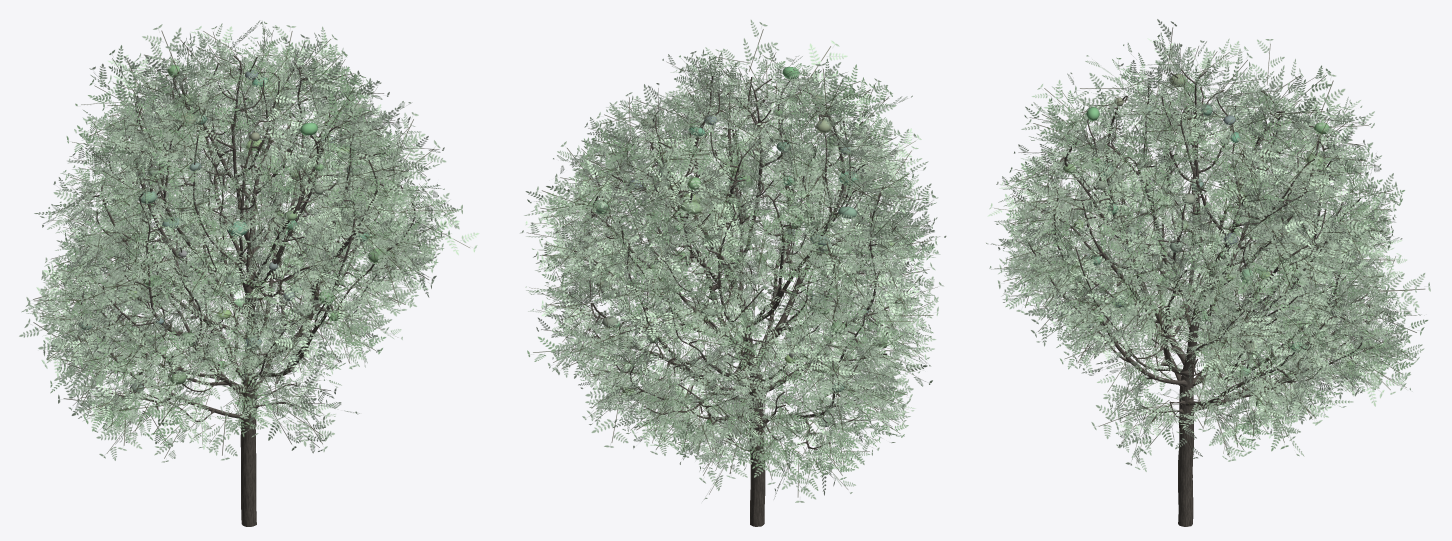
The model's file is tree_59_broadleaf.glb.
3 views of the same model, side by side, from view 1: azimuth 30°, elevation 25°; view 2: azimuth 150°, elevation 25°; view 3: azimuth 270°, elevation 25° (orthographic). The views are drawn at different scales.
Visible parts, largest first — view 1: tree_59_broadleaf.leaves, tree_59_broadleaf.trunk_branches, tree_59_broadleaf.foliage_volume; view 2: tree_59_broadleaf.leaves, tree_59_broadleaf.trunk_branches, tree_59_broadleaf.foliage_volume; view 3: tree_59_broadleaf.leaves, tree_59_broadleaf.trunk_branches, tree_59_broadleaf.foliage_volume.
Boxes of the visible parts, x1,y1,x2,y2 form: tree_59_broadleaf.leaves: (19,20,478,462); tree_59_broadleaf.trunk_branches: (77,55,415,526); tree_59_broadleaf.foliage_volume: (79,64,383,392); tree_59_broadleaf.leaves: (520,20,946,502); tree_59_broadleaf.trunk_branches: (569,76,896,526); tree_59_broadleaf.foliage_volume: (592,66,894,427); tree_59_broadleaf.leaves: (986,19,1430,471); tree_59_broadleaf.trunk_branches: (1028,69,1381,526); tree_59_broadleaf.foliage_volume: (1063,73,1354,407).
Bounding box in the file's own units: 11.14 × 13.38 × 11.38.
Materials: 3 (2 with a texture image).
